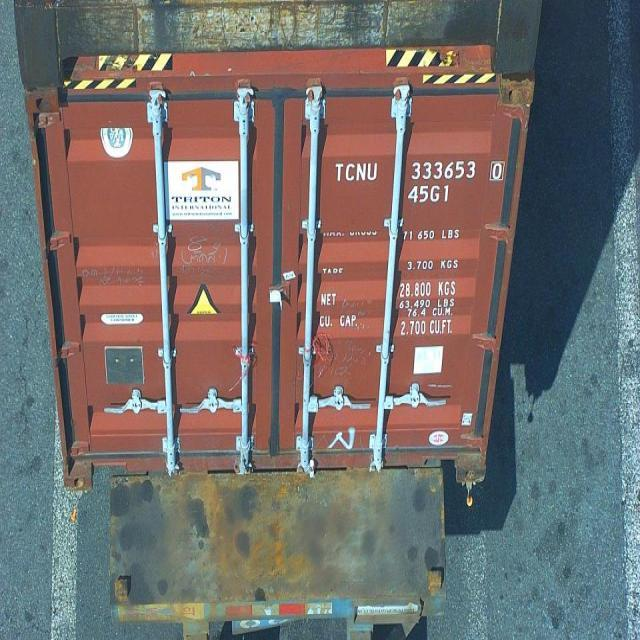ISO: (410, 182, 450, 202)
container_number: (332, 156, 504, 182)
